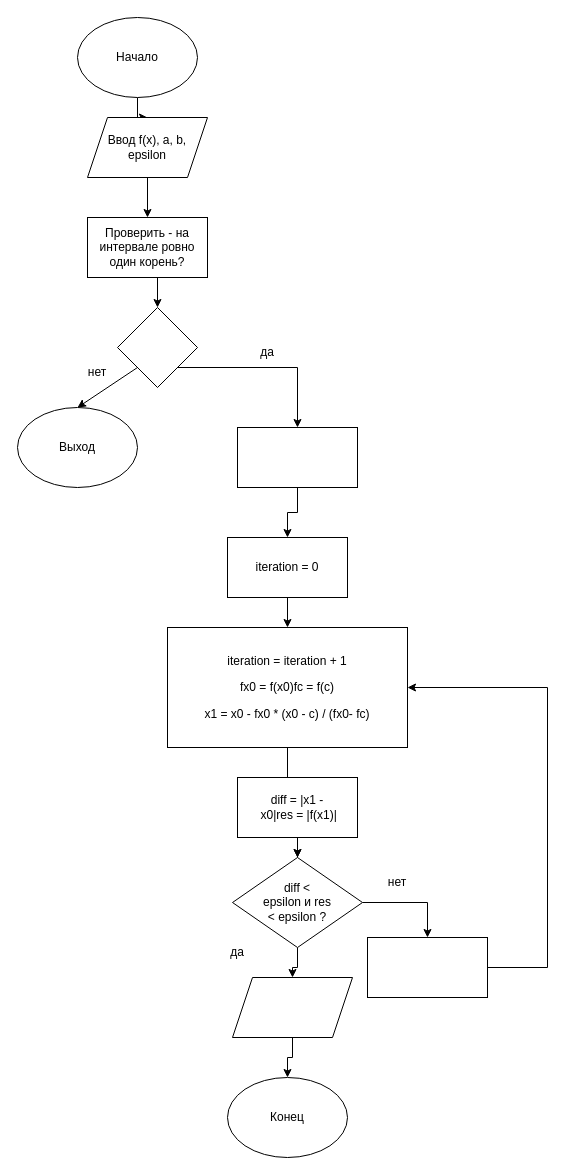
Some shapes in this 573 by 1175 pixel diagram are drawn without their labels. Here are the shapes that lost their labels. From the top down, the centre of each, then its label:
(x=157, y=347): Интервал корректен?
(x=297, y=457): Выбрать фиксированный конец c и начальное приближение x0
(x=427, y=967): x0=x1
(x=292, y=1007): Вывод результата
